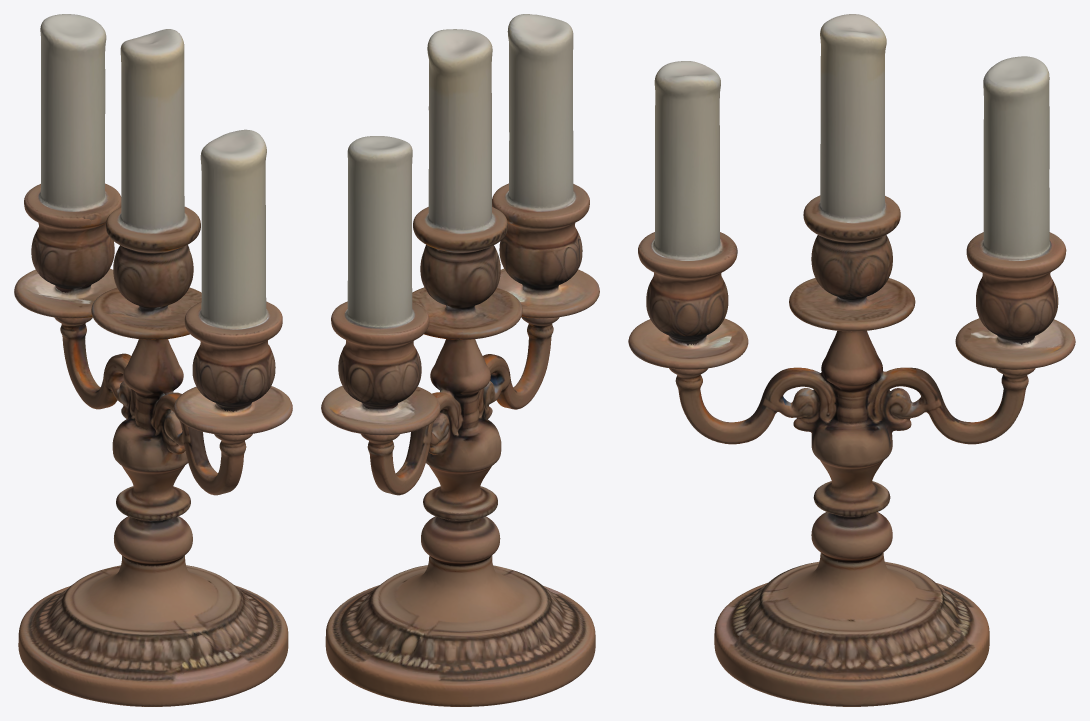
Rendered from candle-01.glb.
3 views of the same model, side by side, from view 1: azimuth 30°, elevation 25°; view 2: azimuth 150°, elevation 25°; view 3: azimuth 270°, elevation 25° (orthographic). The views are drawn at different scales.
Parts seen in each view (by area): view 1: tripo_node_2e235fa3-6444-4e1f-984d-b7fc05d9f193; view 2: tripo_node_2e235fa3-6444-4e1f-984d-b7fc05d9f193; view 3: tripo_node_2e235fa3-6444-4e1f-984d-b7fc05d9f193.
Part boxes in pixels (x1,y1,x2,y2): tripo_node_2e235fa3-6444-4e1f-984d-b7fc05d9f193: (14,14,292,706); tripo_node_2e235fa3-6444-4e1f-984d-b7fc05d9f193: (321,14,599,706); tripo_node_2e235fa3-6444-4e1f-984d-b7fc05d9f193: (628,14,1075,706).
Bounding box in the file's own units: 0.3492 × 0.8777 × 0.5648.
1 material, 1 textured.
